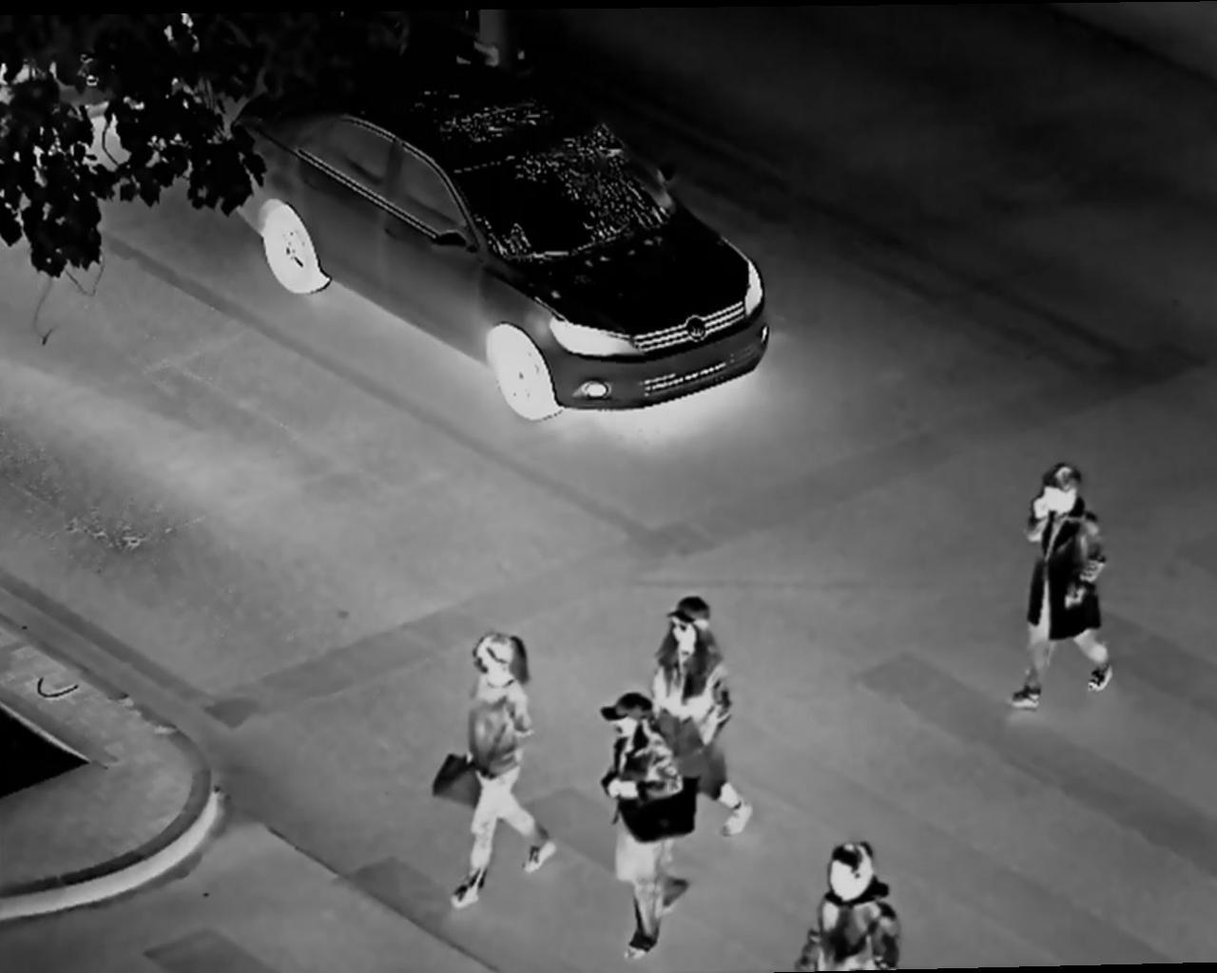person: (437, 619, 561, 911), (643, 588, 772, 850), (1012, 462, 1131, 702), (600, 687, 688, 969), (798, 832, 913, 973)
